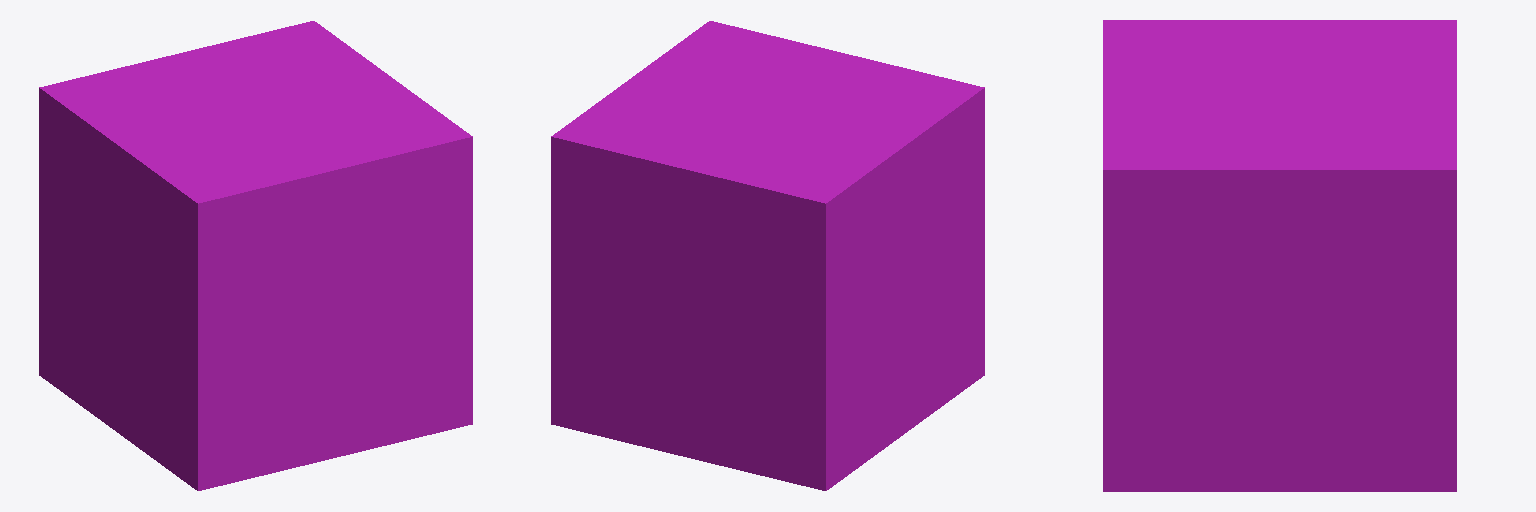
URDF robot description (block):
<robot name="block">
	<link name="base">
		<inertial>
	      <origin rpy="0 0 0" xyz="0.001637 0.0002 0.259547"/>
	      <mass value="0.028392"/>
	      <inertia ixx="0.376284" ixy="-8.8e-05" ixz="0.008378" iyy="0.342655" iyz="6.7e-05" izz="0.100648"/>
	    </inertial>
	    <visual>
	      <origin rpy="0 0 0" xyz="0 0 0"/>
	      <geometry>
	        <box size="0.05 0.05 0.05"/>
	      </geometry>
	      <material name="scarlet">
	        <color rgba="0.8 0.2 0.8 1"/>
	      </material>
	    </visual>
	    <collision>
	      <origin rpy="0 0 0" xyz="0 0 0"/>
	      <geometry>
	        <box size="0.05 0.05 0.05"/>
	      </geometry>
	    </collision>
	</link>

</robot>

--- Facts derived from the render (not from the file) ---
The picture shows the robot from 3 angles, left to right: view 1: azimuth 30°, elevation 25°; view 2: azimuth 150°, elevation 25°; view 3: azimuth 270°, elevation 25°; orthographic projection.
Model block with 1 links and 0 joints (none), rooted at base, posed every joint at zero.
Visible links, largest first — view 1: base; view 2: base; view 3: base.
Link boxes in pixels (x1,y1,x2,y2): base: (39, 21, 472, 490); base: (551, 21, 984, 490); base: (1103, 20, 1456, 491).
Bounding box of the posed robot: 0.05 × 0.05 × 0.05 m (x, y, z).
Geometry: primitives only (box / cylinder / sphere), no mesh files.